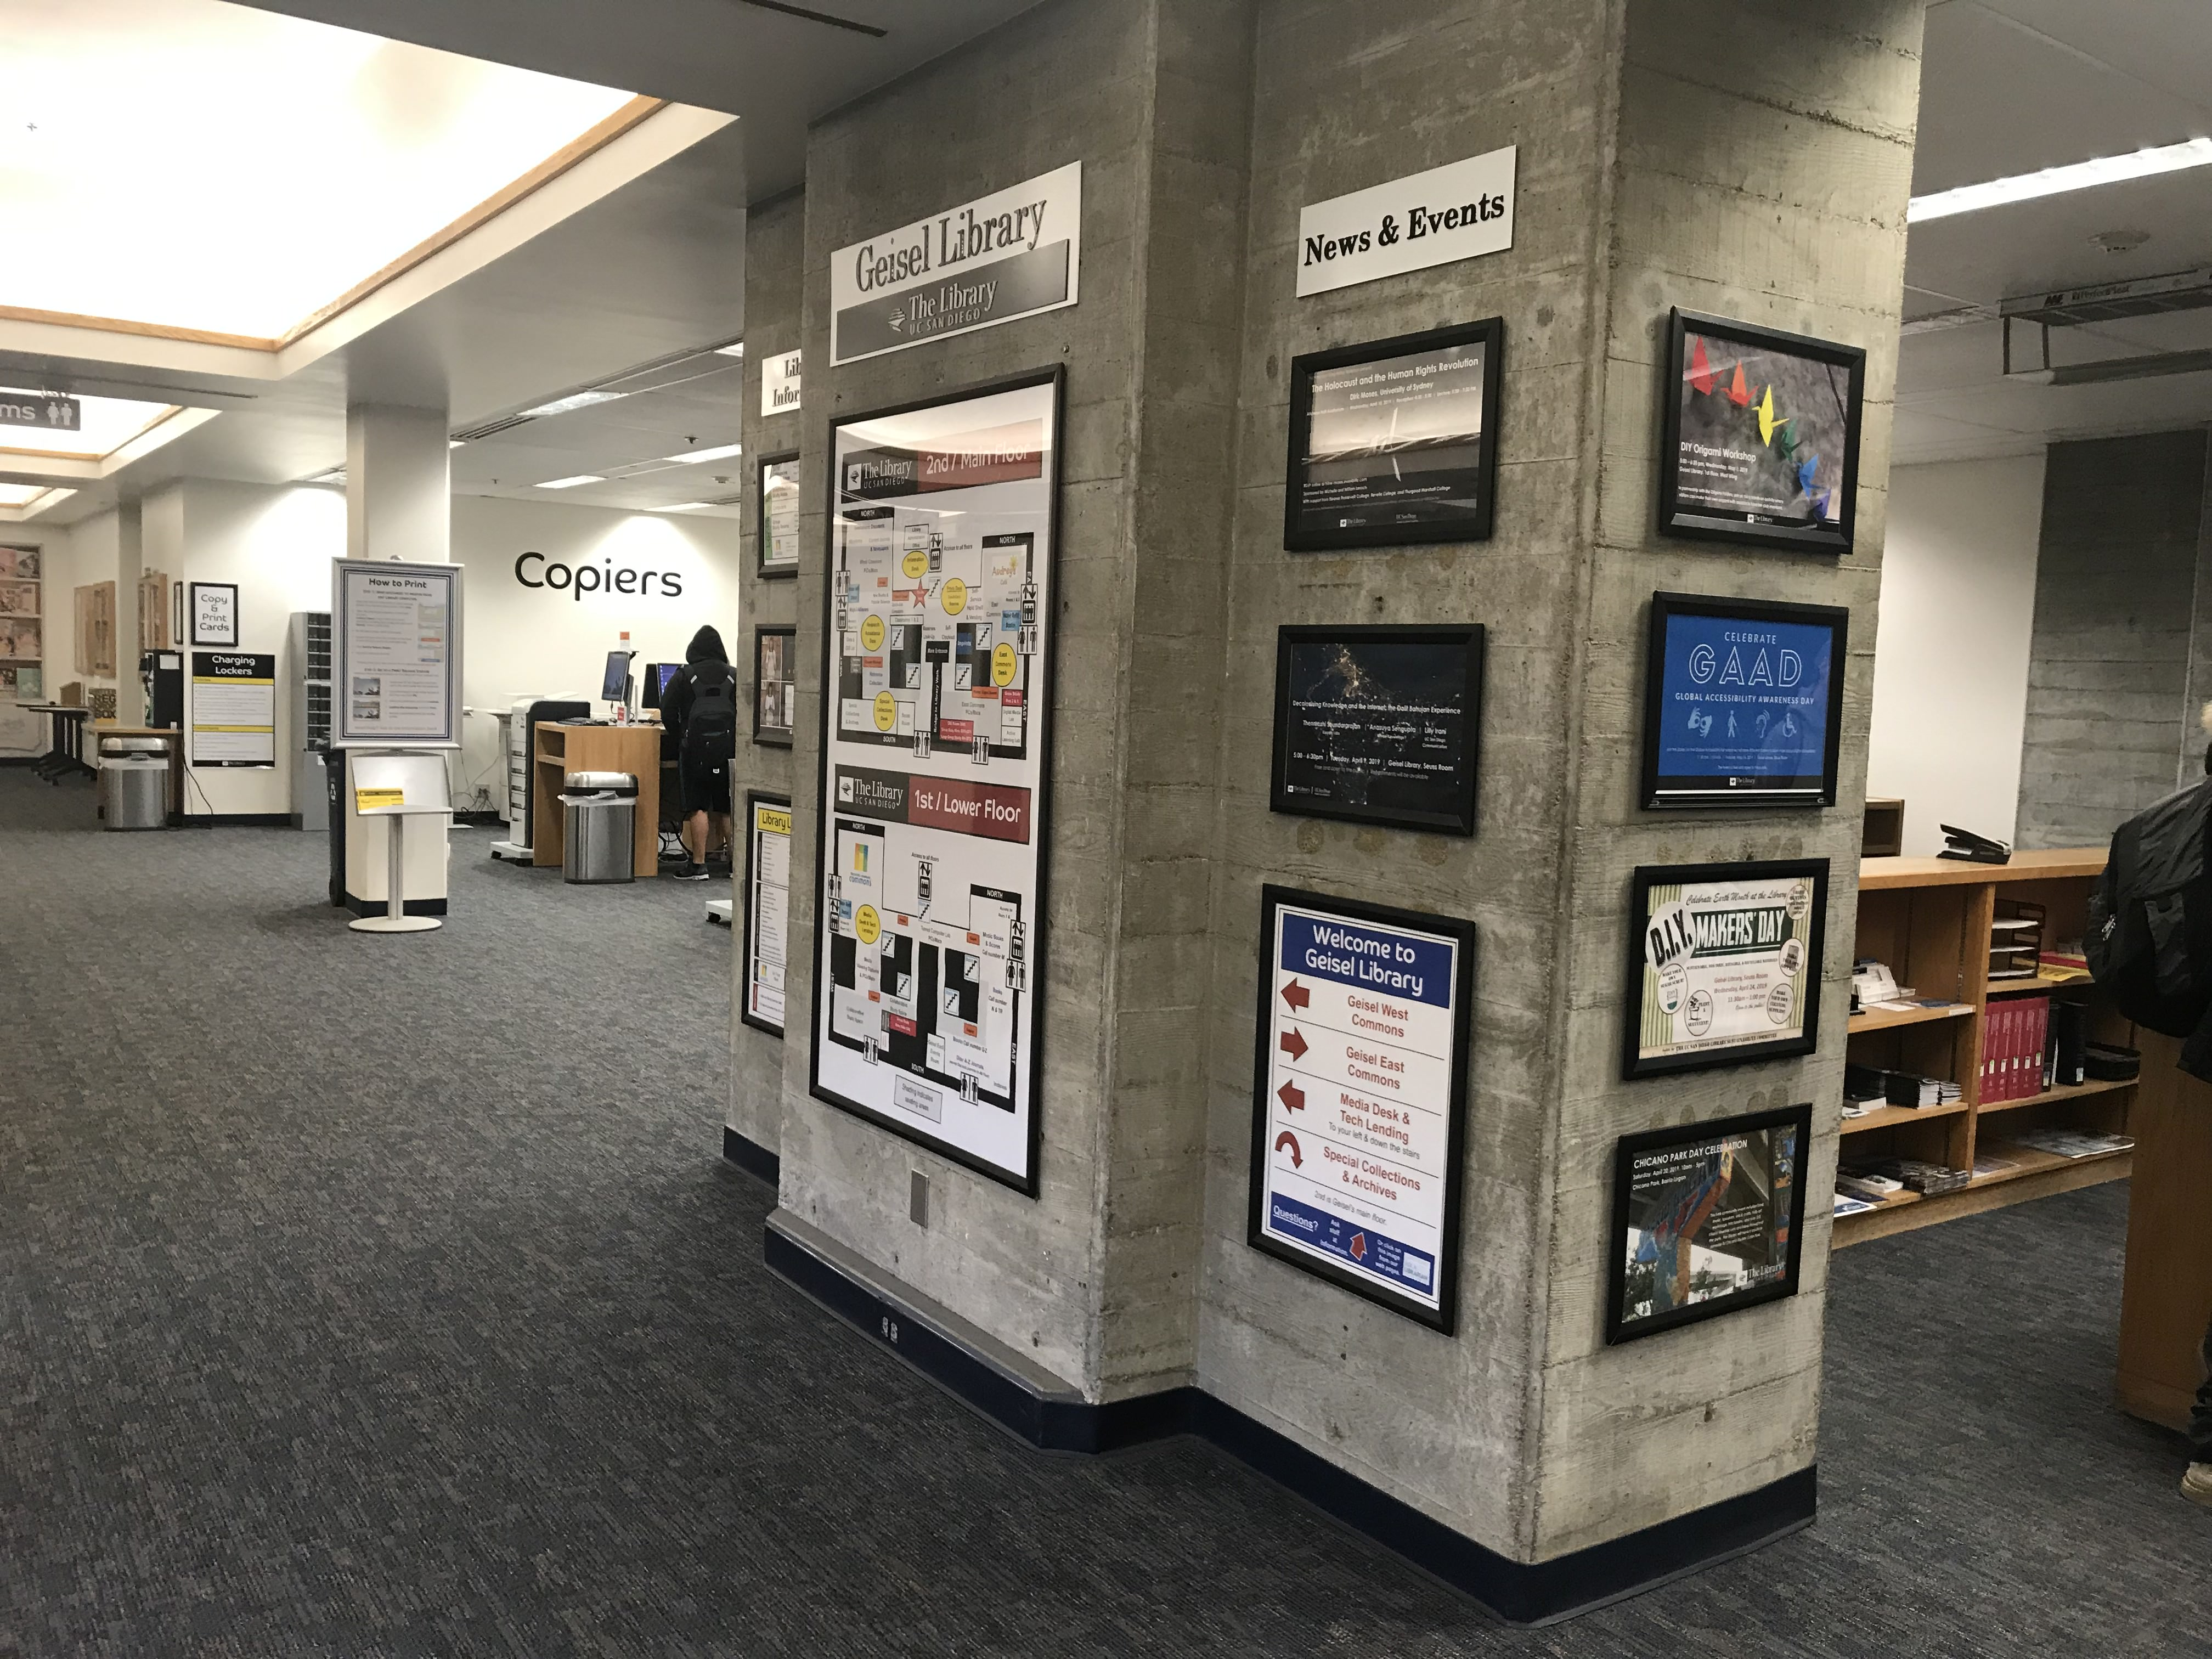Obstacle: (728, 10, 1918, 1591), (1914, 767, 2116, 1197), (334, 406, 456, 924), (2125, 784, 2209, 1443), (503, 701, 671, 885), (94, 732, 176, 838)
